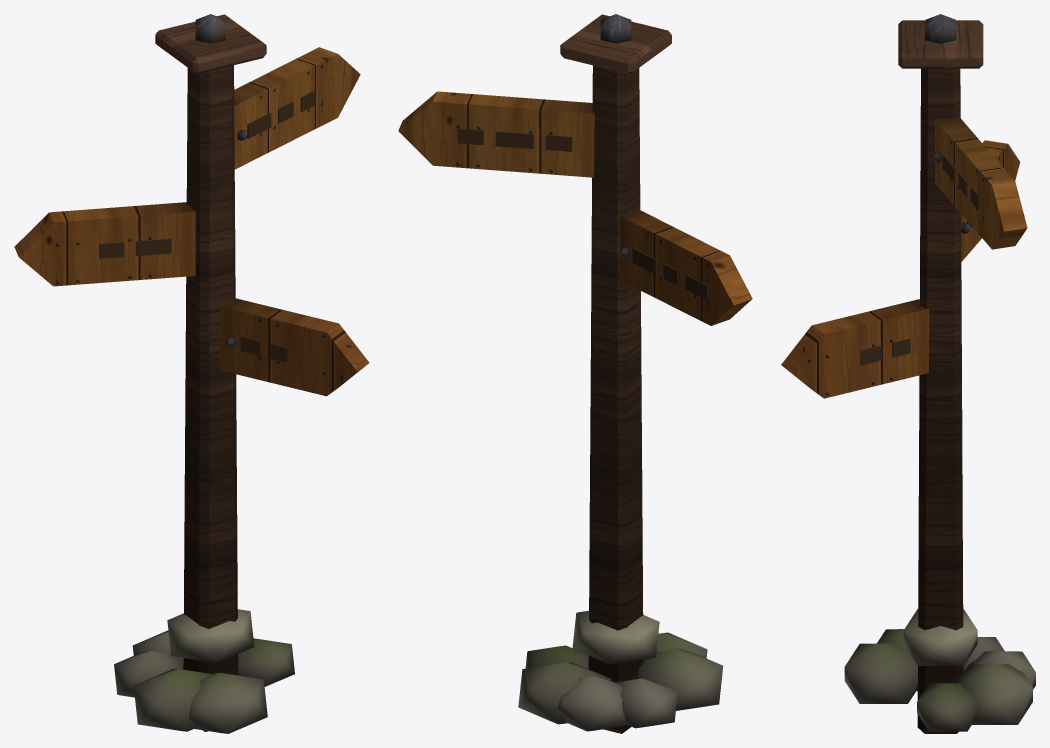
File: signpost.glb
3 views of the same model, side by side, from view 1: azimuth 30°, elevation 25°; view 2: azimuth 150°, elevation 25°; view 3: azimuth 270°, elevation 25° (orthographic).
Visible parts, largest first — view 1: signpost; view 2: signpost; view 3: signpost.
Part boxes in pixels (x1,y1,x2,y2): signpost: (14,14,369,733); signpost: (398,14,752,733); signpost: (781,14,1035,733).
Bounding box in the file's own units: 1.13 × 2.22 × 0.7192.
Materials: 5 (4 with a texture image).
